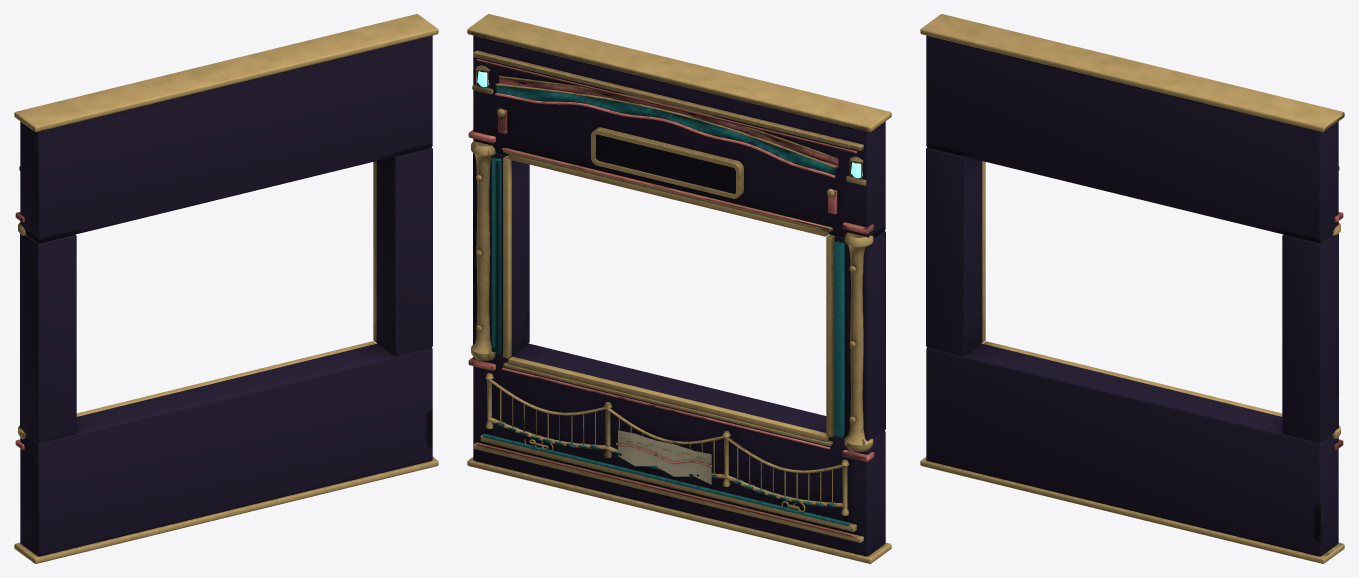
3 renders of one model, left to right at view 1: azimuth 30°, elevation 25°; view 2: azimuth 150°, elevation 25°; view 3: azimuth 330°, elevation 25°, orthographic.
Parts seen in each view (by area): view 1: Violet_enamel, Survey_brass; view 2: Violet_enamel, Survey_brass, Woven_teal_canopy, Coral_fabric, Folded_ivory_paper; view 3: Violet_enamel, Survey_brass.
Boxes of the visible parts, left/top/right/bottom form: Violet_enamel: left=20, top=35, right=432, bottom=556; Survey_brass: left=14, top=14, right=438, bottom=563; Violet_enamel: left=473, top=35, right=885, bottom=556; Survey_brass: left=467, top=14, right=891, bottom=563; Woven_teal_canopy: left=482, top=85, right=850, bottom=525; Coral_fabric: left=468, top=59, right=874, bottom=537; Folded_ivory_paper: left=618, top=430, right=711, bottom=484; Violet_enamel: left=926, top=35, right=1338, bottom=556; Survey_brass: left=920, top=14, right=1344, bottom=563.
Bounding box in the file's own units: 8.7 × 9 × 1.02.
6 materials, 5 textured.
